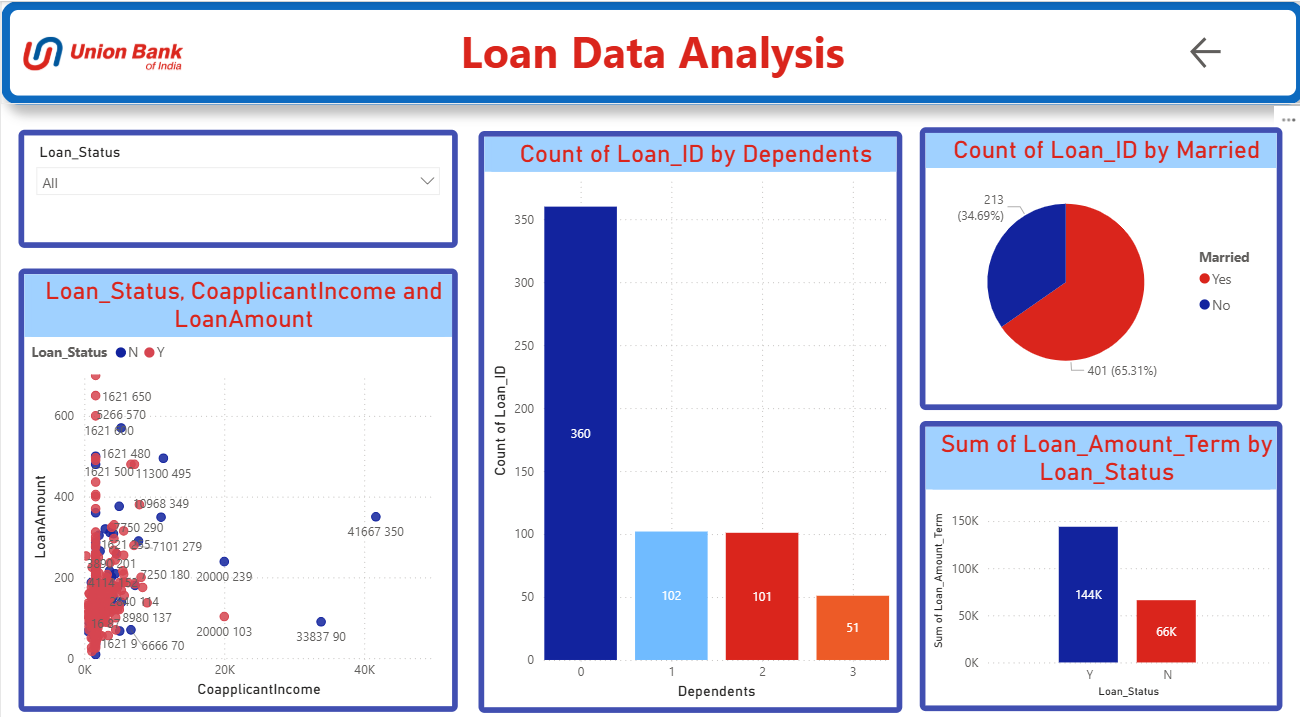

The page's visual inventory and layout, read from the dashboard file:
{"tool":"powerbi","page":{"name":"Demo Graphics and Credits","canvas":[1280,720],"ordinal":3},"visuals":[{"type":"textbox","box":[0,0,1280,101.2],"z":0},{"type":"image","box":[17.5,21.2,166.2,61.2],"z":1000},{"type":"scatterChart","fields":{"Series":["loan.Loan_Status"],"X":["loan.CoapplicantIncome"],"Y":["loan.LoanAmount"]},"box":[17.5,262.5,431.2,435],"z":2000},{"type":"columnChart","fields":{"Category":["loan.Dependents"],"Y":["CountNonNull(loan.Loan_ID)"]},"box":[468.8,127.5,416.2,571.2],"z":3000},{"type":"slicer","fields":{"Values":["loan.Loan_Status"]},"box":[17.5,126.2,431.2,116.2],"z":4000},{"type":"pieChart","fields":{"Category":["loan.Married"],"Y":["CountNonNull(loan.Loan_ID)"]},"box":[901.2,123.8,356.2,277.5],"z":5000},{"type":"columnChart","fields":{"Category":["loan.Loan_Status"],"Y":["Sum(loan.Loan_Amount_Term)"]},"box":[901.2,412.5,356.2,285],"z":6000},{"type":"actionButton","box":[1163.8,31.2,83.8,40],"z":7000},{"type":"actionButton","box":[7.5,7.5,185,83.8],"z":8000}]}

Visuals, with their boxes in screenshot pixels (x1, y1, x2, y2), scaled from the page's 1280x720 canvas onto the 1300x717 screenshot:
textbox: [x1=0, y1=0, x2=1299, y2=101]
image: [x1=18, y1=21, x2=187, y2=82]
scatterChart - loan.Loan_Status x loan.CoapplicantIncome: [x1=18, y1=261, x2=456, y2=695]
columnChart - loan.Dependents x CountNonNull(loan.Loan_ID): [x1=476, y1=127, x2=899, y2=696]
slicer - loan.Loan_Status: [x1=18, y1=126, x2=456, y2=241]
pieChart - loan.Married x CountNonNull(loan.Loan_ID): [x1=915, y1=123, x2=1277, y2=400]
columnChart - loan.Loan_Status x Sum(loan.Loan_Amount_Term): [x1=915, y1=411, x2=1277, y2=695]
actionButton: [x1=1182, y1=31, x2=1267, y2=71]
actionButton: [x1=8, y1=7, x2=196, y2=91]
